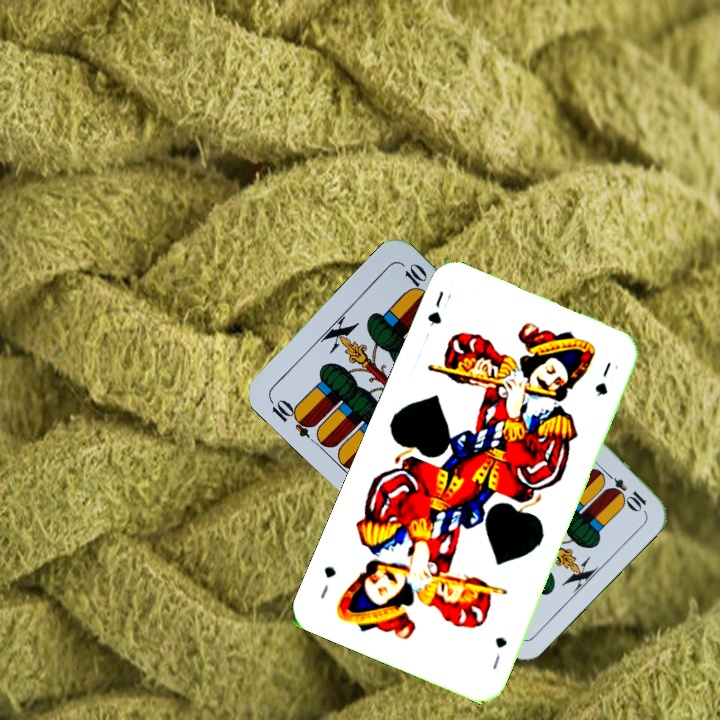E10: (265, 394, 318, 440), (598, 466, 649, 513)
GU: (423, 286, 454, 330), (488, 633, 510, 672)
